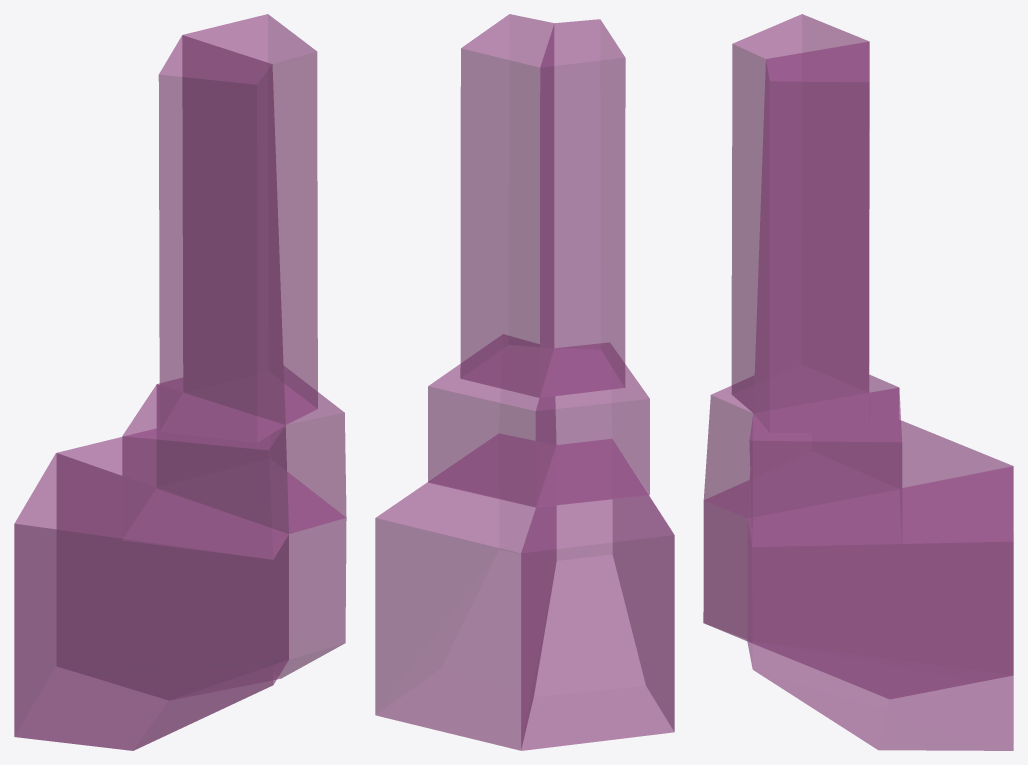
The model's file is SM_Bld_Railing_Pillar_45_Corner_Outer_01_Collision.fbx.
3 renders of one model, left to right at view 1: azimuth 30°, elevation 25°; view 2: azimuth 150°, elevation 25°; view 3: azimuth 270°, elevation 25°, orthographic. The views are drawn at different scales.
Visible parts, largest first — view 1: SM_Bld_Railing_Pillar_45_Corner_Outer_01_Collision; view 2: SM_Bld_Railing_Pillar_45_Corner_Outer_01_Collision; view 3: SM_Bld_Railing_Pillar_45_Corner_Outer_01_Collision.
Boxes of the visible parts, x1=… form: SM_Bld_Railing_Pillar_45_Corner_Outer_01_Collision: x1=14, y1=14, x2=346, y2=750; SM_Bld_Railing_Pillar_45_Corner_Outer_01_Collision: x1=375, y1=14, x2=674, y2=750; SM_Bld_Railing_Pillar_45_Corner_Outer_01_Collision: x1=703, y1=14, x2=1013, y2=750.
Bounding box in the file's own units: 65.13 × 160 × 68.23.
